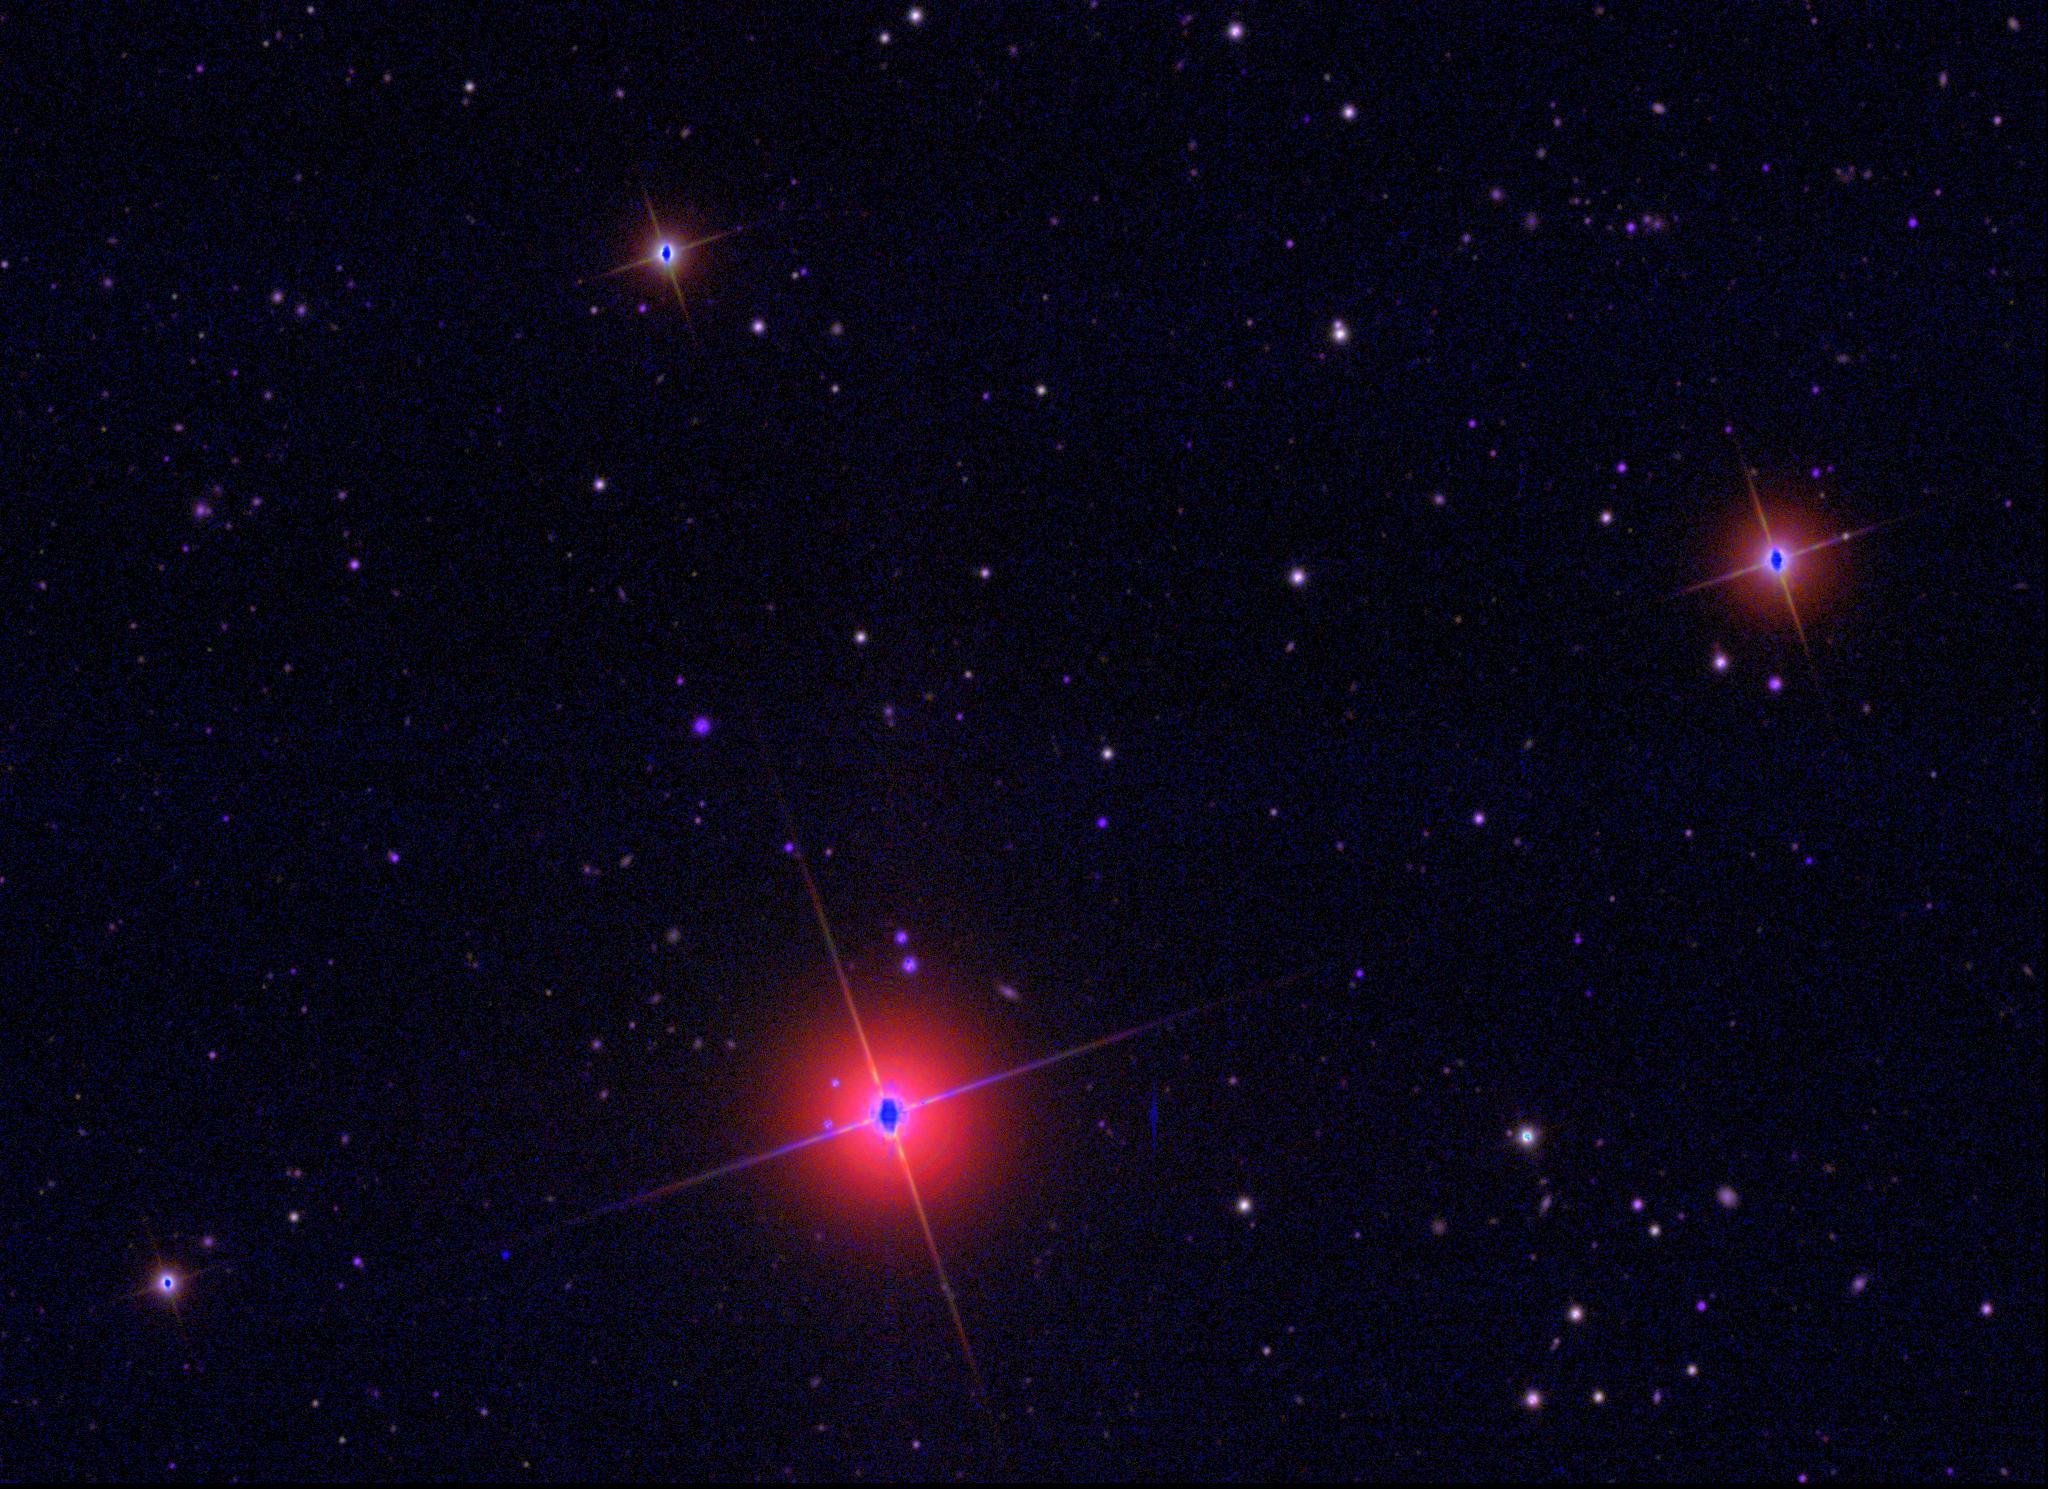L: (499, 1249, 514, 1262)
